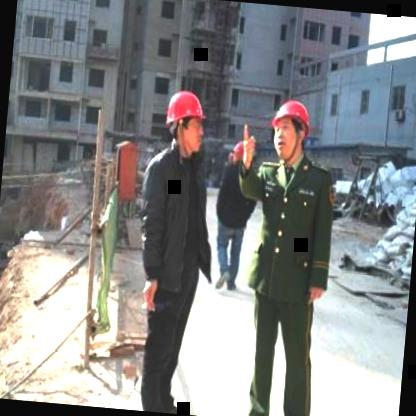helmet: (260, 91, 320, 168), (158, 80, 212, 162)
